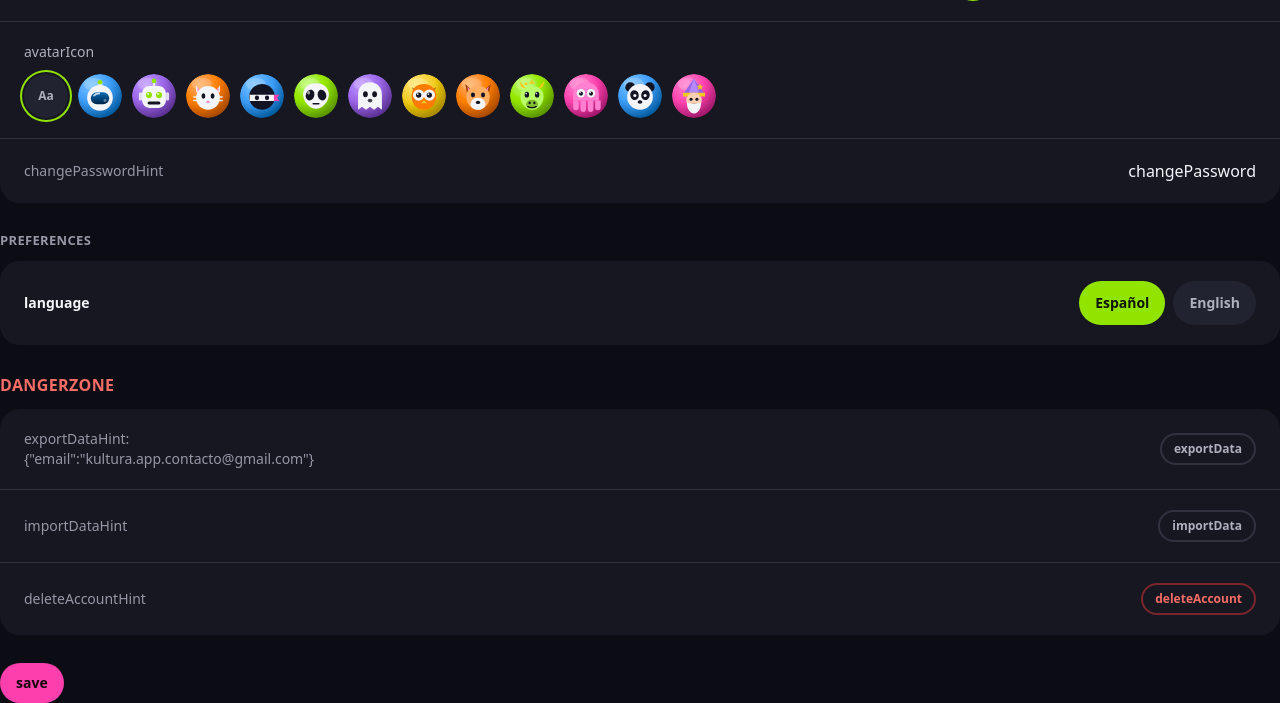
Test case: SettingsForm — F-12 › borrado (ROJO-7) › el modal enumera lo que se pierde y a quién pasa cada grupo y lista
(page scrolled)
What coordinates should you click on to do the following:
click the button "deleteAccount"
I would click on:
 (1199, 599)
Its box is x1=1141 y1=583 x2=1256 y2=615.
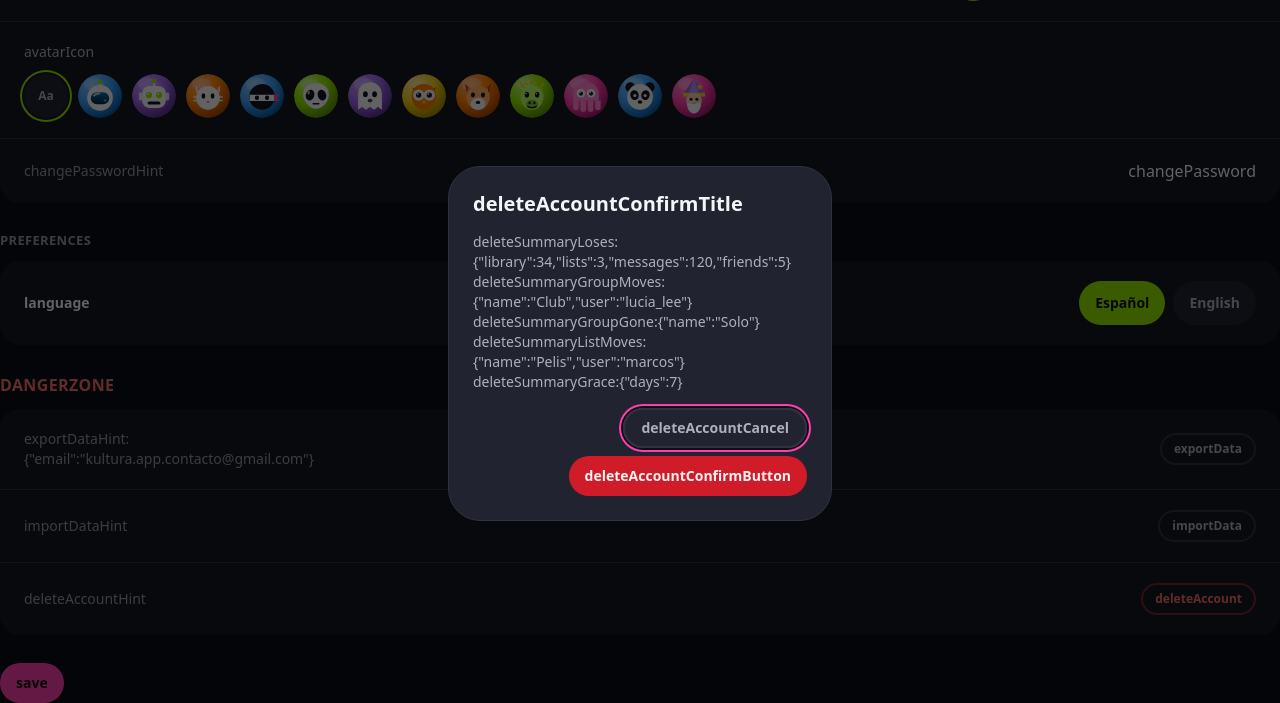
Now the text "deleteSummaryLoses" shows "deleteSummaryLoses:{\"library\":34,\"lists\":3,\"messages\":120,\"friends\":5}", box x1=473 y1=232 x2=791 y2=390
Now the text "deleteSummaryLoses" shows "deleteSummaryGroupMoves:{\"name\":\"Club\",\"user\":\"lucia_lee\"}", box x1=473 y1=232 x2=791 y2=390
Now the text "deleteSummaryLoses" shows "deleteSummaryGroupGone:{\"name\":\"Solo\"}", box x1=473 y1=232 x2=791 y2=390
